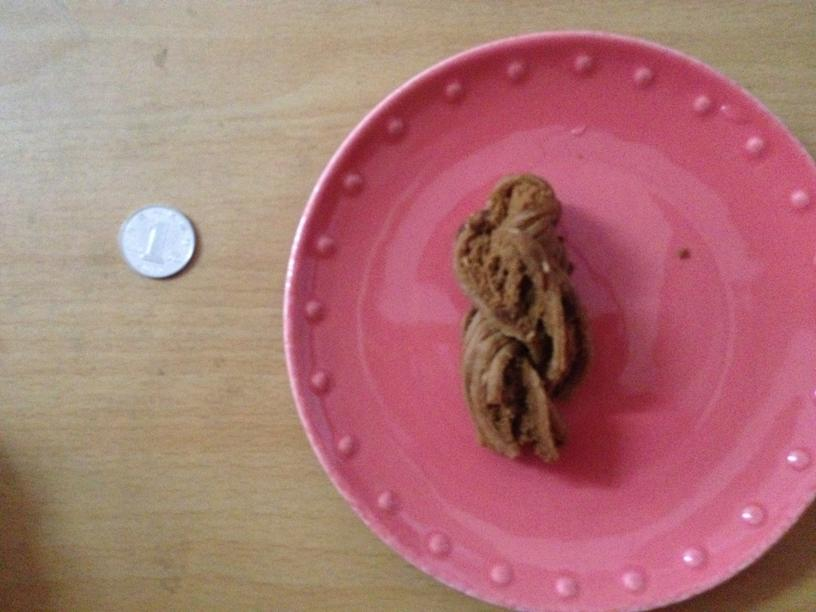coin: (117, 209, 196, 278)
fired_dough_twist: (457, 179, 582, 460)
